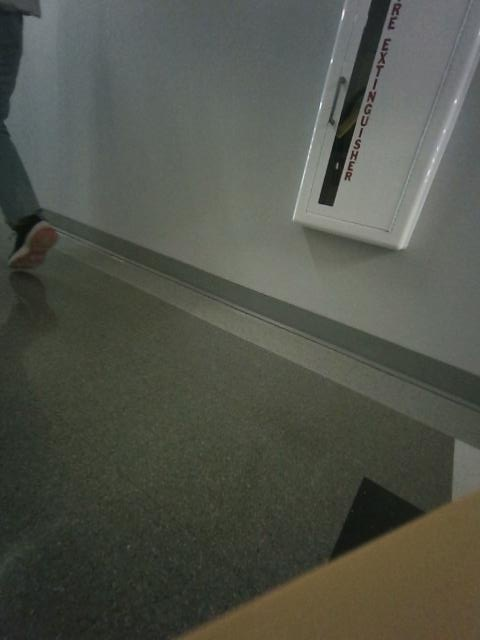ball: (8, 221, 57, 268)
